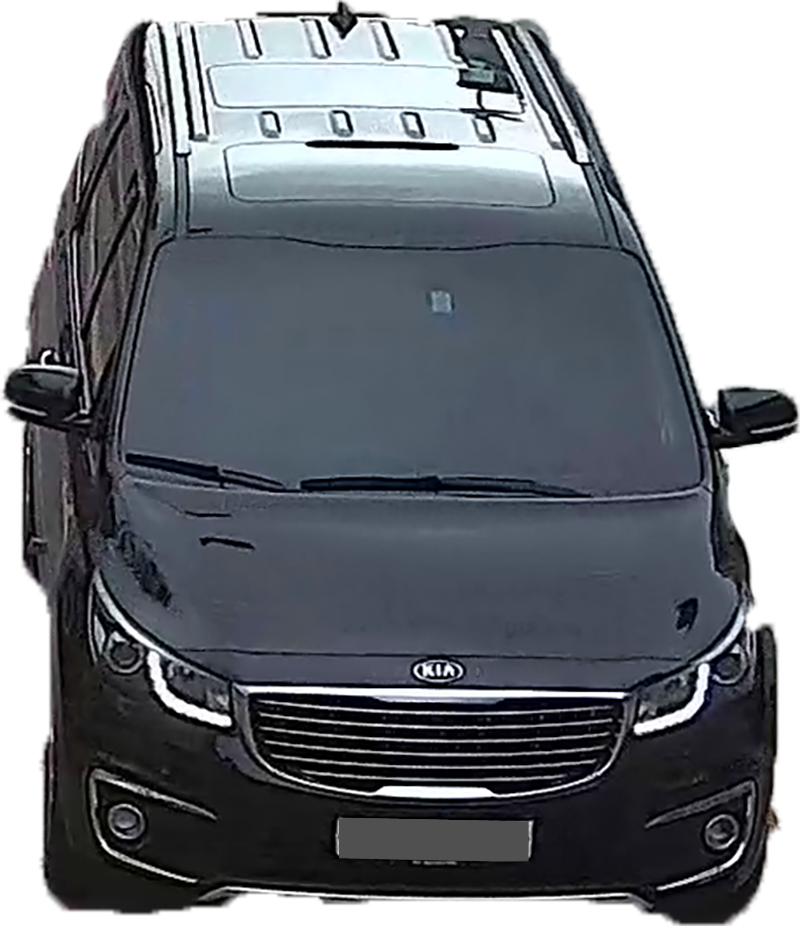P1_: (535, 818, 545, 821)
bbox: (337, 812, 535, 868)
